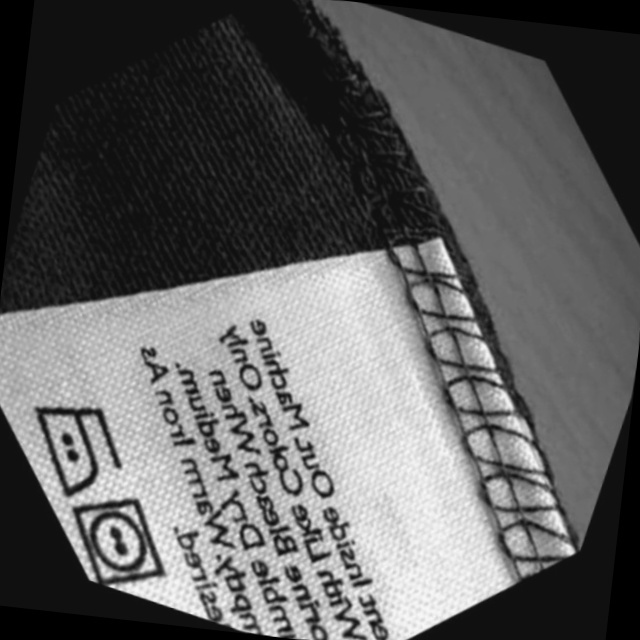iron_medium: (0, 376, 146, 516)
tumble_dry_medium: (41, 471, 192, 610)
